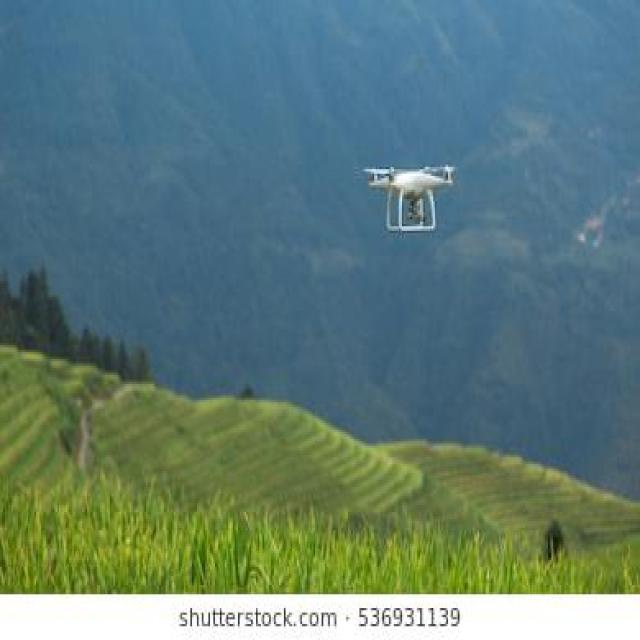drone: (361, 151, 461, 239)
